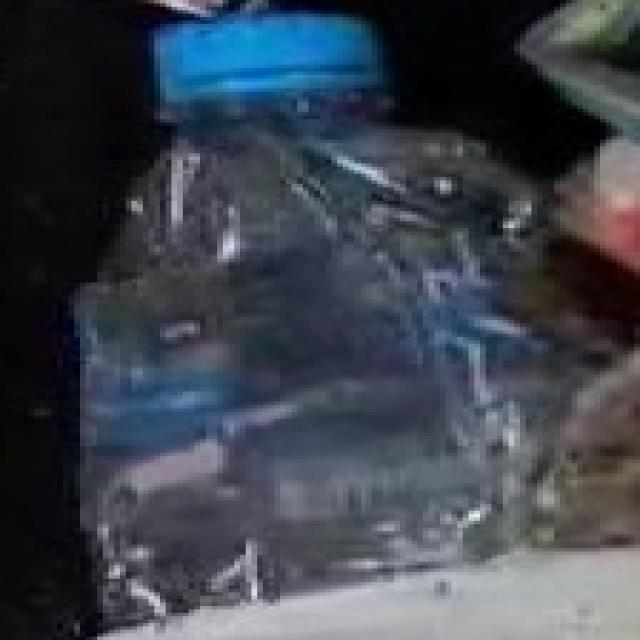litter: (87, 24, 640, 629)
